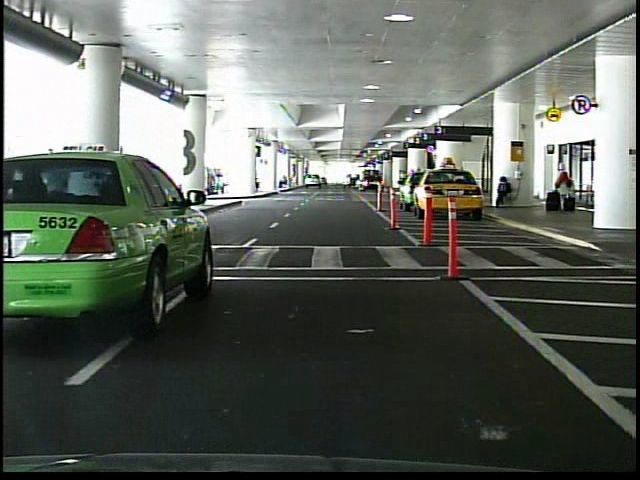person: (40, 146, 67, 231), (554, 164, 577, 213), (493, 174, 514, 208)
